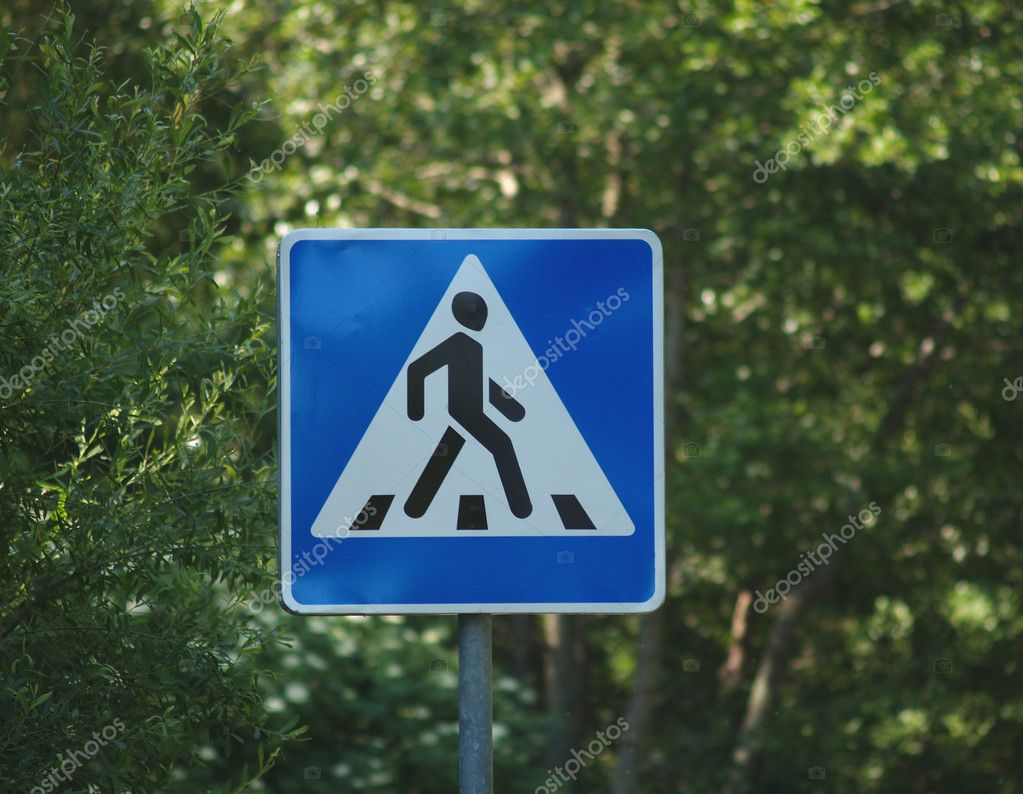yaya_gecidi: (281, 231, 676, 612)
